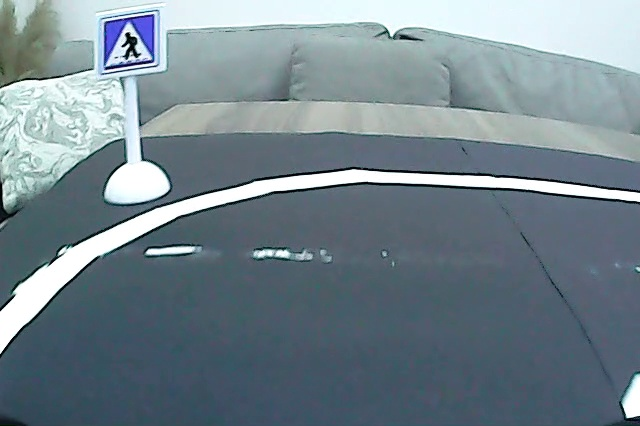pedestrian crossing: (98, 12, 163, 73)
